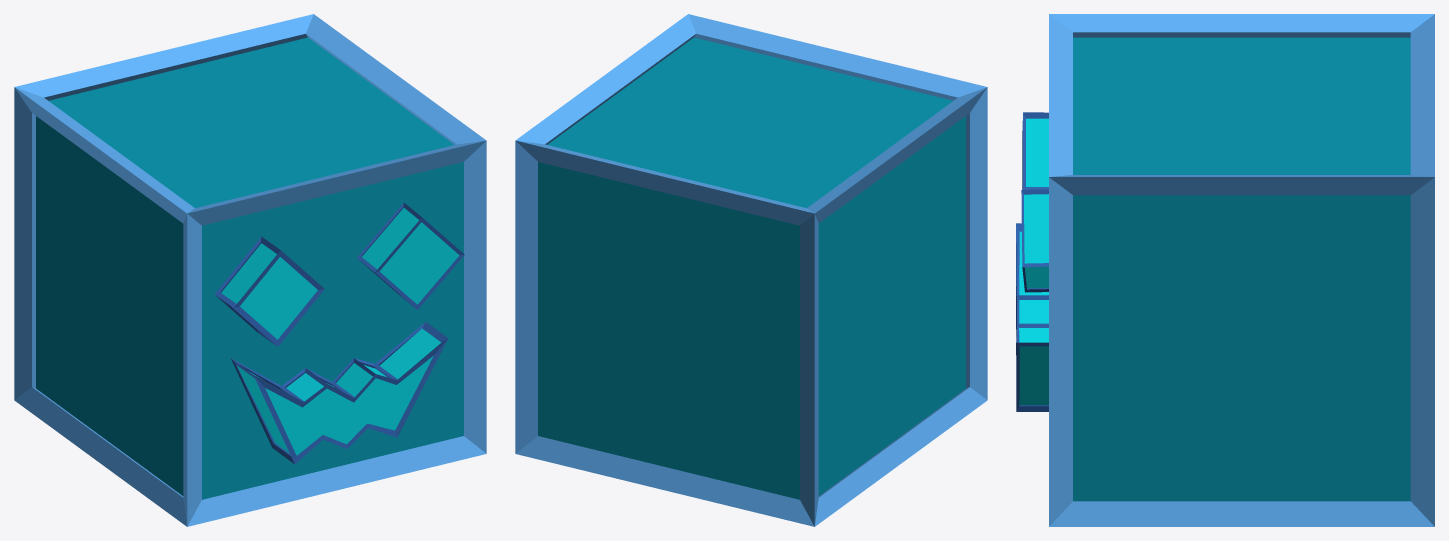
Rendered from meleeEnemy1Model.fbx.
3 views of the same model, side by side, from view 1: azimuth 30°, elevation 25°; view 2: azimuth 150°, elevation 25°; view 3: azimuth 270°, elevation 25° (orthographic). The views are drawn at different scales.
Visible parts, largest first — view 1: body, cage, mouth.001, mouth.002, eye.L.001, eye.R.001, eye.R.002, eye.L.002; view 2: body, cage; view 3: body, cage, mouth.001, eye.L.001, eye.R.001, mouth.002, eye.L.002, eye.R.002.
Boxes of the visible parts, x1=… form: body: x1=36, y1=37, x2=463, y2=499; cage: x1=14, y1=14, x2=486, y2=526; mouth.001: x1=237, y1=328, x2=441, y2=455; mouth.002: x1=230, y1=322, x2=448, y2=464; eye.L.001: x1=362, y1=208, x2=459, y2=304; eye.R.001: x1=221, y1=243, x2=317, y2=339; eye.R.002: x1=214, y1=236, x2=324, y2=346; eye.L.002: x1=357, y1=203, x2=464, y2=309; body: x1=538, y1=37, x2=965, y2=499; cage: x1=515, y1=14, x2=987, y2=526; body: x1=1073, y1=37, x2=1410, y2=501; cage: x1=1049, y1=14, x2=1434, y2=526; mouth.001: x1=1019, y1=231, x2=1048, y2=405; eye.L.001: x1=1024, y1=194, x2=1048, y2=288; eye.R.001: x1=1026, y1=118, x2=1048, y2=186; mouth.002: x1=1016, y1=223, x2=1048, y2=411; eye.L.002: x1=1021, y1=189, x2=1048, y2=292; eye.R.002: x1=1022, y1=112, x2=1048, y2=189.
Bounding box in the file's own units: 1.1 × 1.1 × 1.19.
